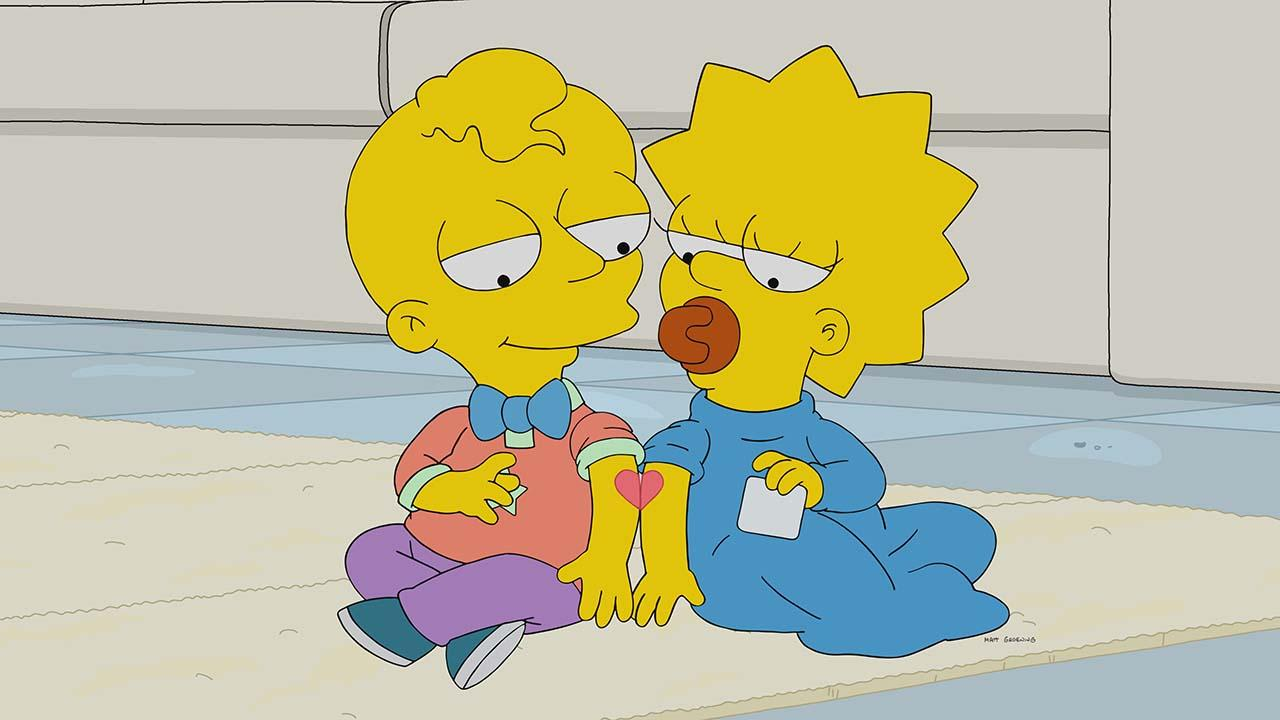Maggie: (633, 40, 1046, 664)
